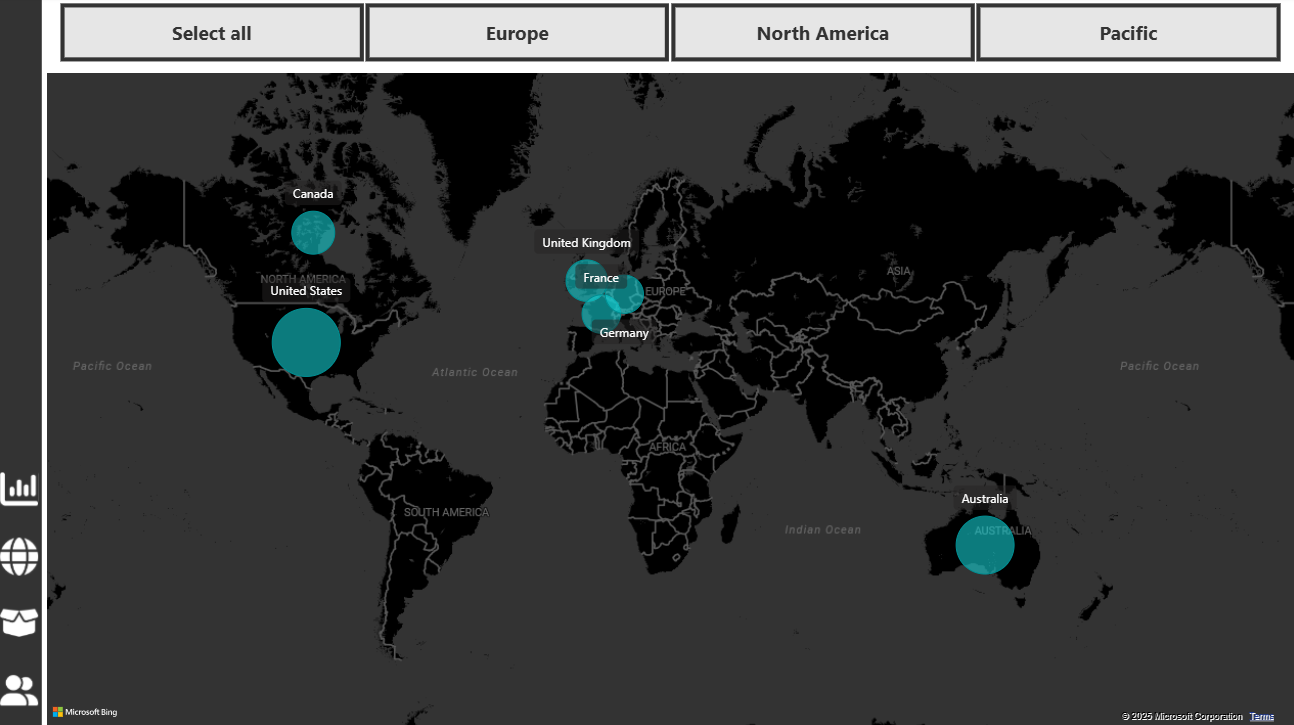

The dashboard page shown, as its layout file describes it:
{"tool":"powerbi","page":{"name":"Map","canvas":[1280,720],"ordinal":1},"visuals":[{"type":"shape","box":[0,0,45,719.7],"z":0},{"type":"map","fields":{"Size":["Measure Table.Total Order"],"Category":["Territory Lookup.Country"]},"box":[45.2,70.9,1235.1,649.3],"z":1000},{"type":"slicer","fields":{"Values":["Territory Lookup.Continent"]},"box":[36.7,0,1243.6,70.9],"z":2000},{"type":"actionButton","box":[0,457.3,45.2,50.1],"z":3000},{"type":"actionButton","box":[0,588.6,45.2,50.1],"z":4000},{"type":"actionButton","box":[0,654.2,45.2,50.1],"z":5000},{"type":"actionButton","box":[0,523,45.2,50.1],"z":6000}]}

Visuals, with their boxes on the page's 1280x720 design canvas (x1, y1, x2, y2). These are canvas units, not pixel positions in the 1294x725 screenshot, which may show the page scaled, cropped or inside an application window:
shape: 0 0 45 720
map - Measure Table.Total Order x Territory Lookup.Country: 45 71 1280 720
slicer - Territory Lookup.Continent: 37 0 1280 71
actionButton: 0 457 45 507
actionButton: 0 589 45 639
actionButton: 0 654 45 704
actionButton: 0 523 45 573
